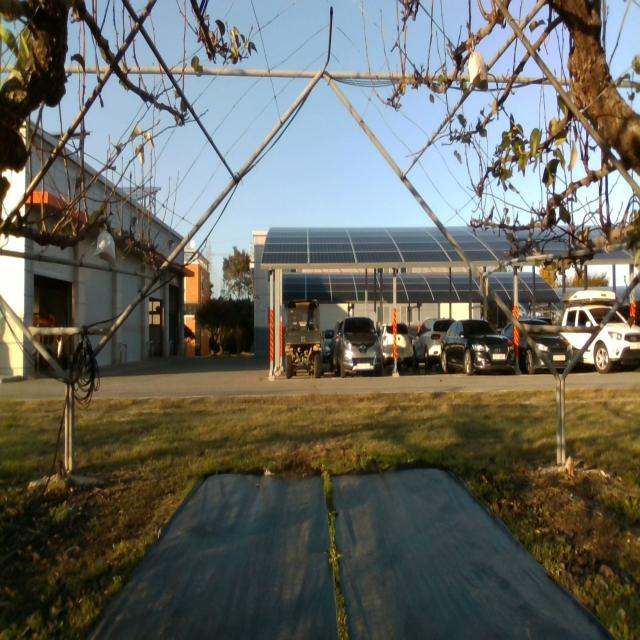pearbags: (468, 40, 488, 91), (94, 224, 117, 267)
